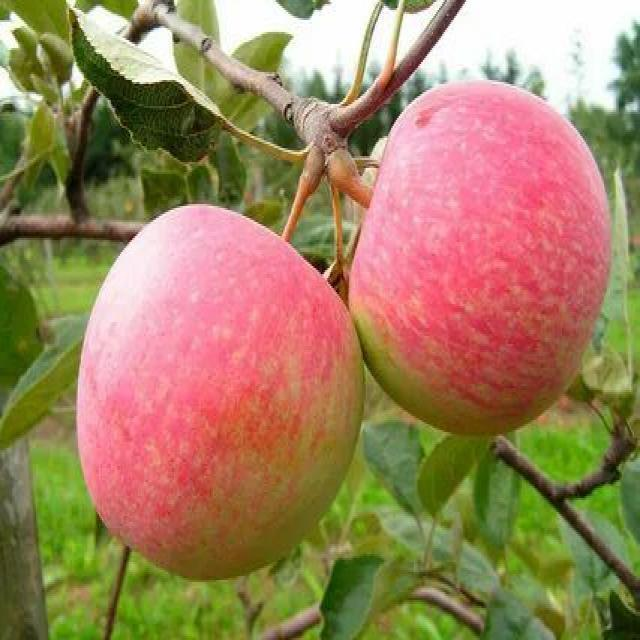Fresh Apple: (84, 205, 364, 585), (340, 87, 603, 418)
